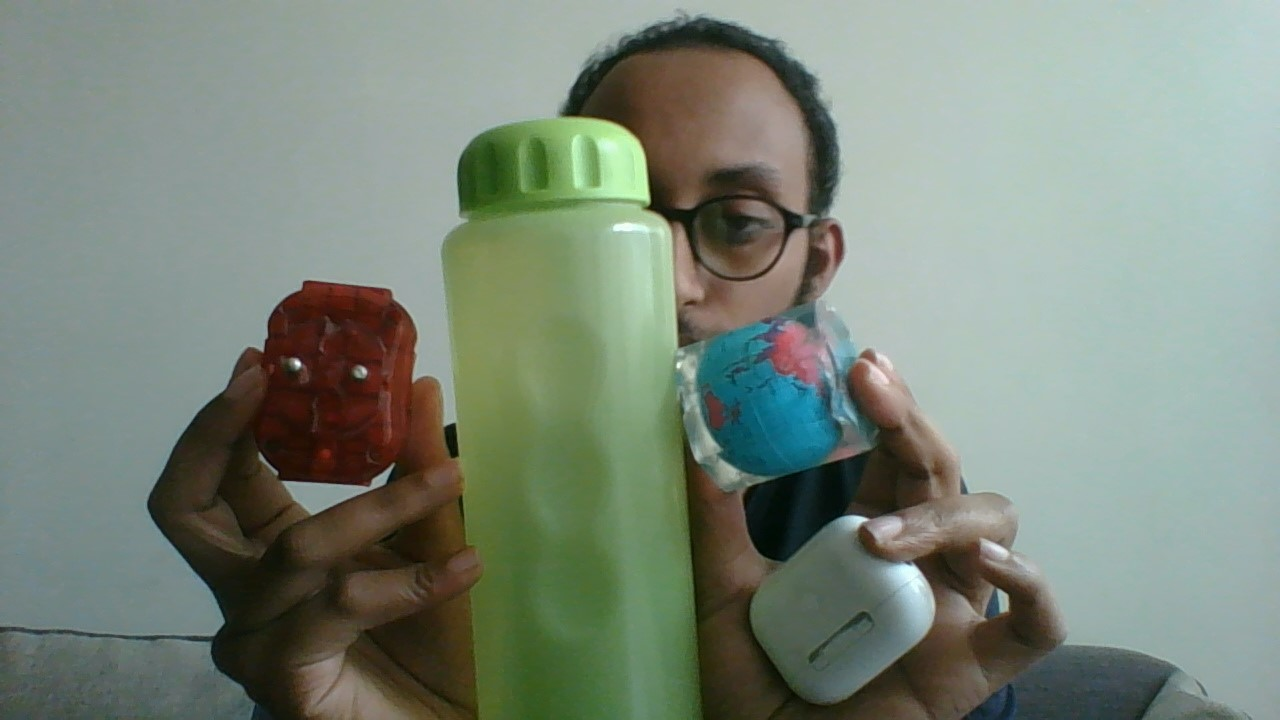Air_pod: (738, 508, 943, 715)
Multi_adapter: (251, 272, 423, 490)
Water_bottle: (439, 114, 712, 719)
world_globe: (672, 293, 891, 494)
